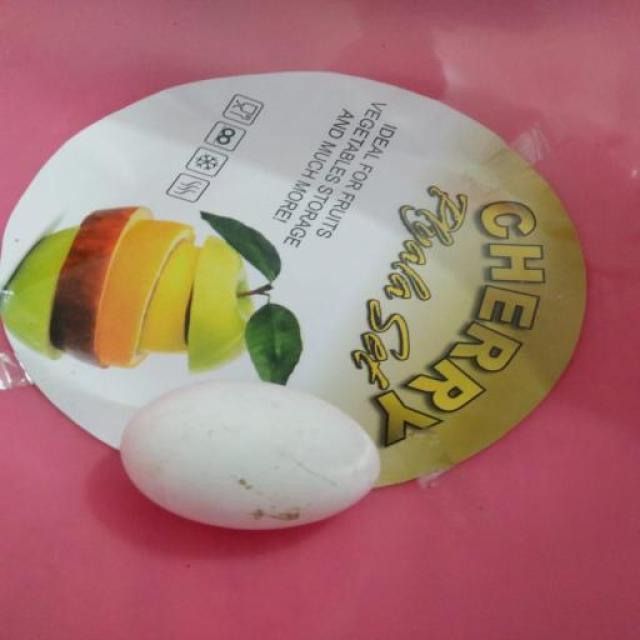telur: (111, 367, 385, 550)
